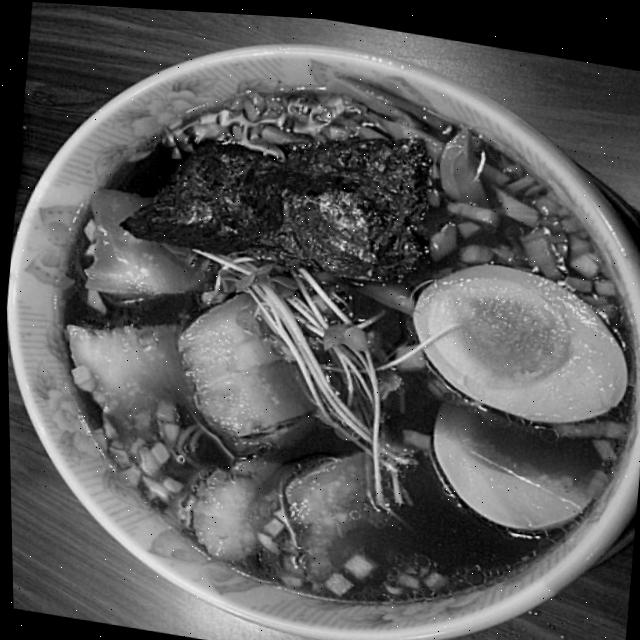面条主食: (20, 34, 640, 640)
